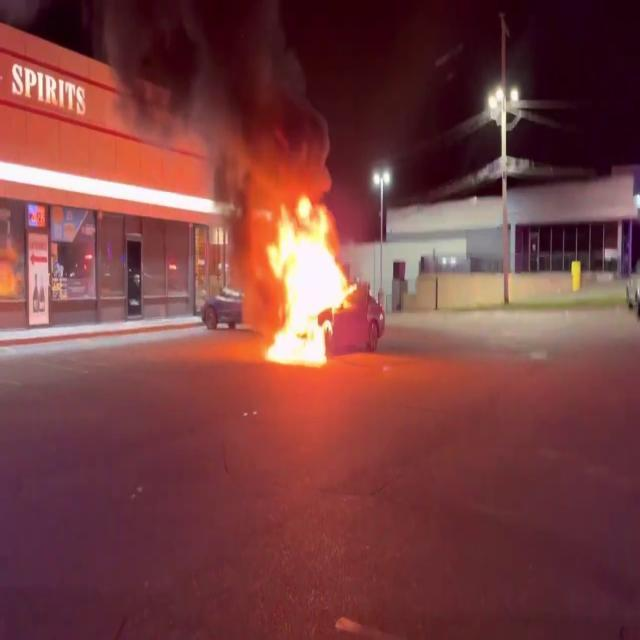Fire: (258, 190, 359, 365)
Smoke: (95, 0, 333, 204)
